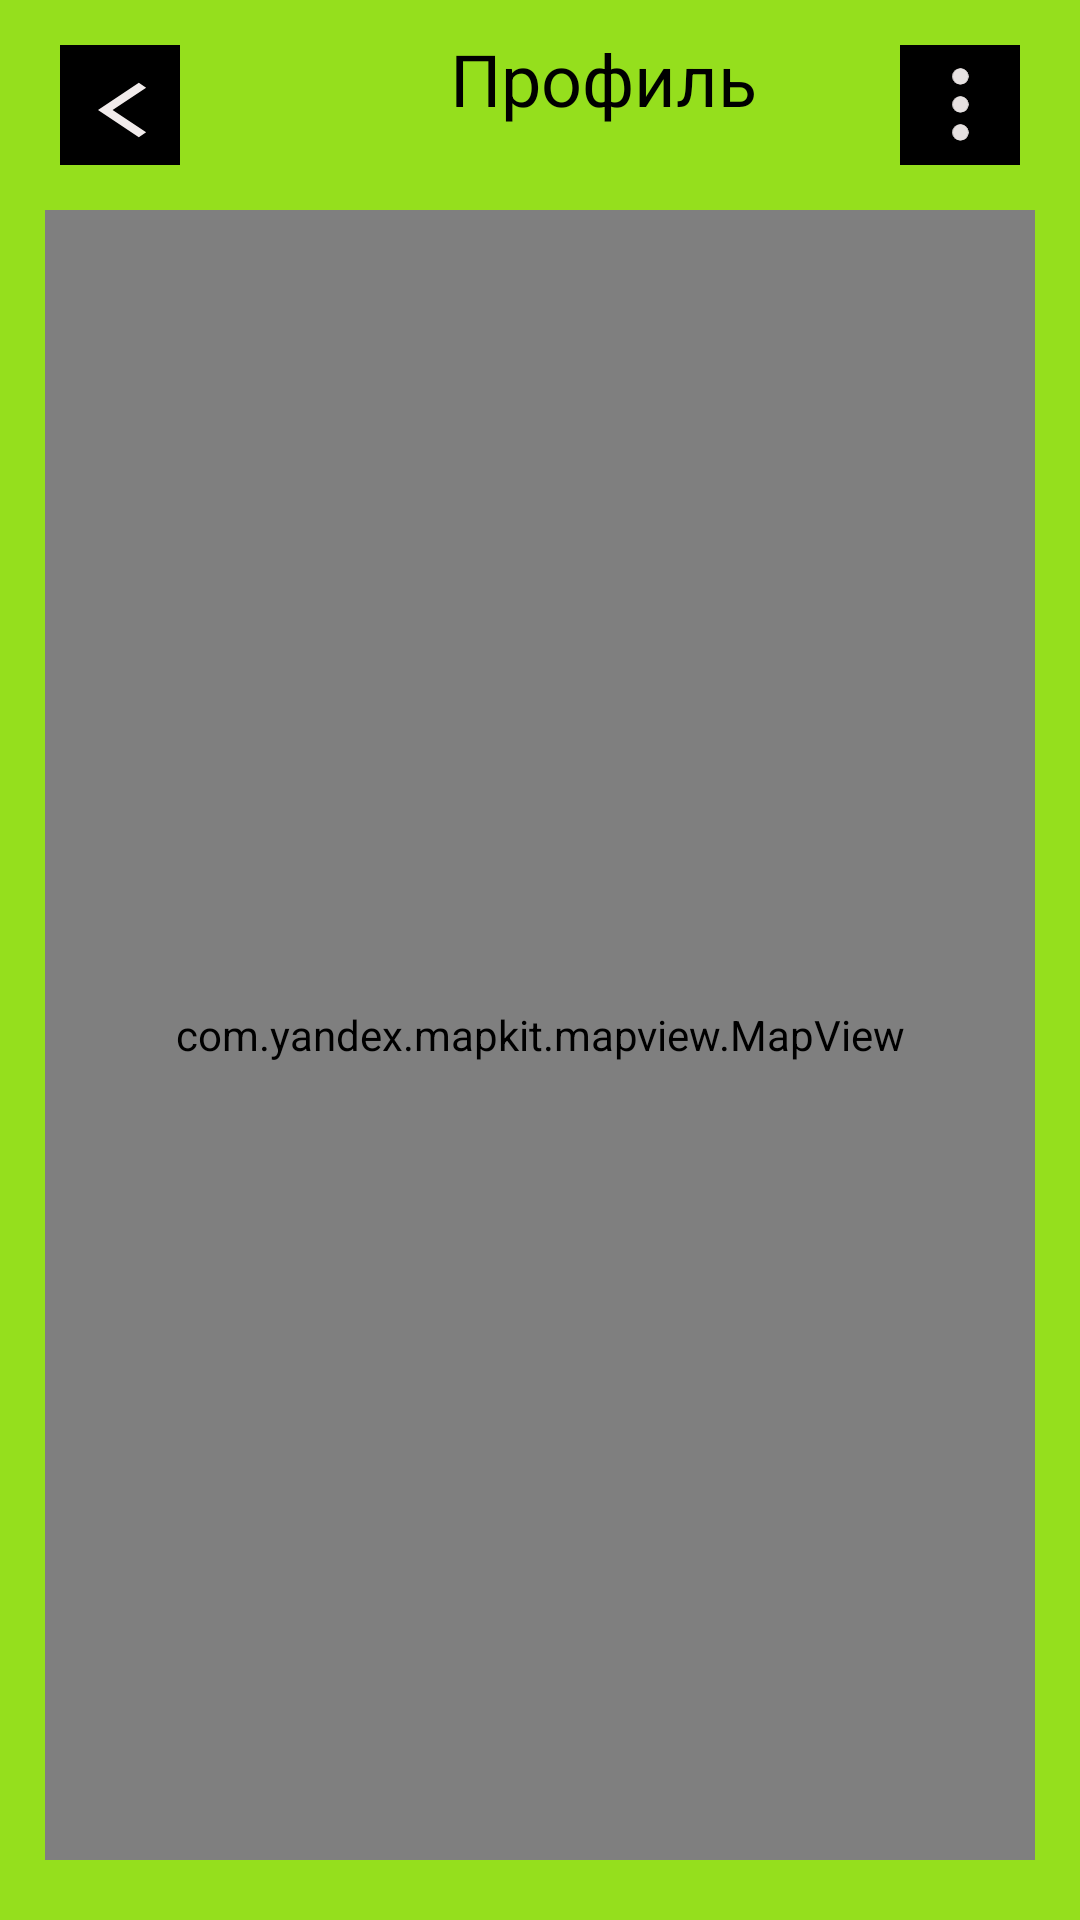

Screen size 1080 x 1920. Icon name, then its box in pixels as (x1, y1, x2, y2):
menu: (952, 68, 969, 141)
